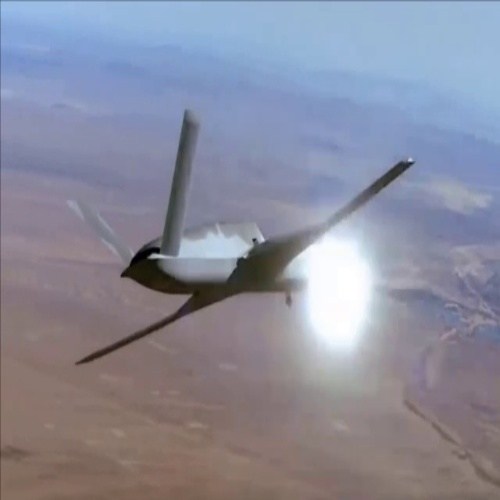uav951: (64, 106, 420, 368)
